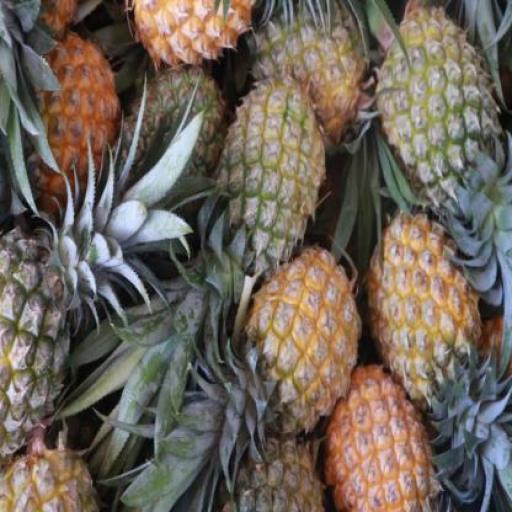------------------------------: (376, 0, 494, 214), (213, 84, 319, 280), (0, 232, 80, 490), (248, 5, 366, 148)
Pineapple - v8 v1: (364, 214, 474, 410), (13, 31, 120, 220), (243, 249, 350, 432), (322, 365, 435, 512)
